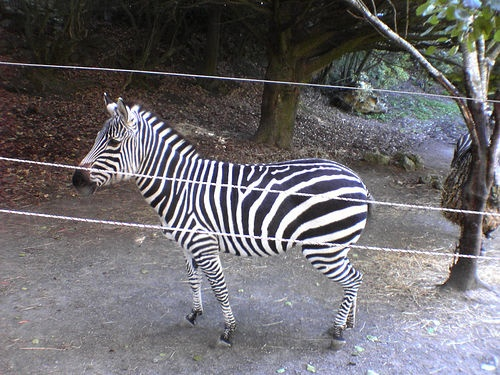zebra: (73, 90, 374, 348)
